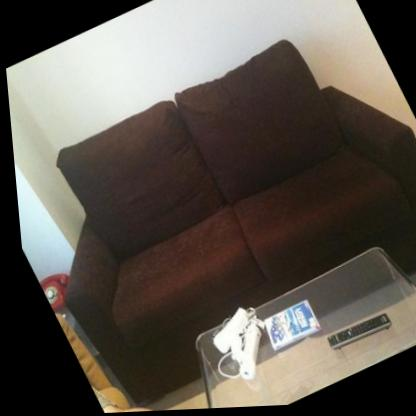Sofa: (1, 5, 416, 416)
Table: (148, 232, 416, 411)
